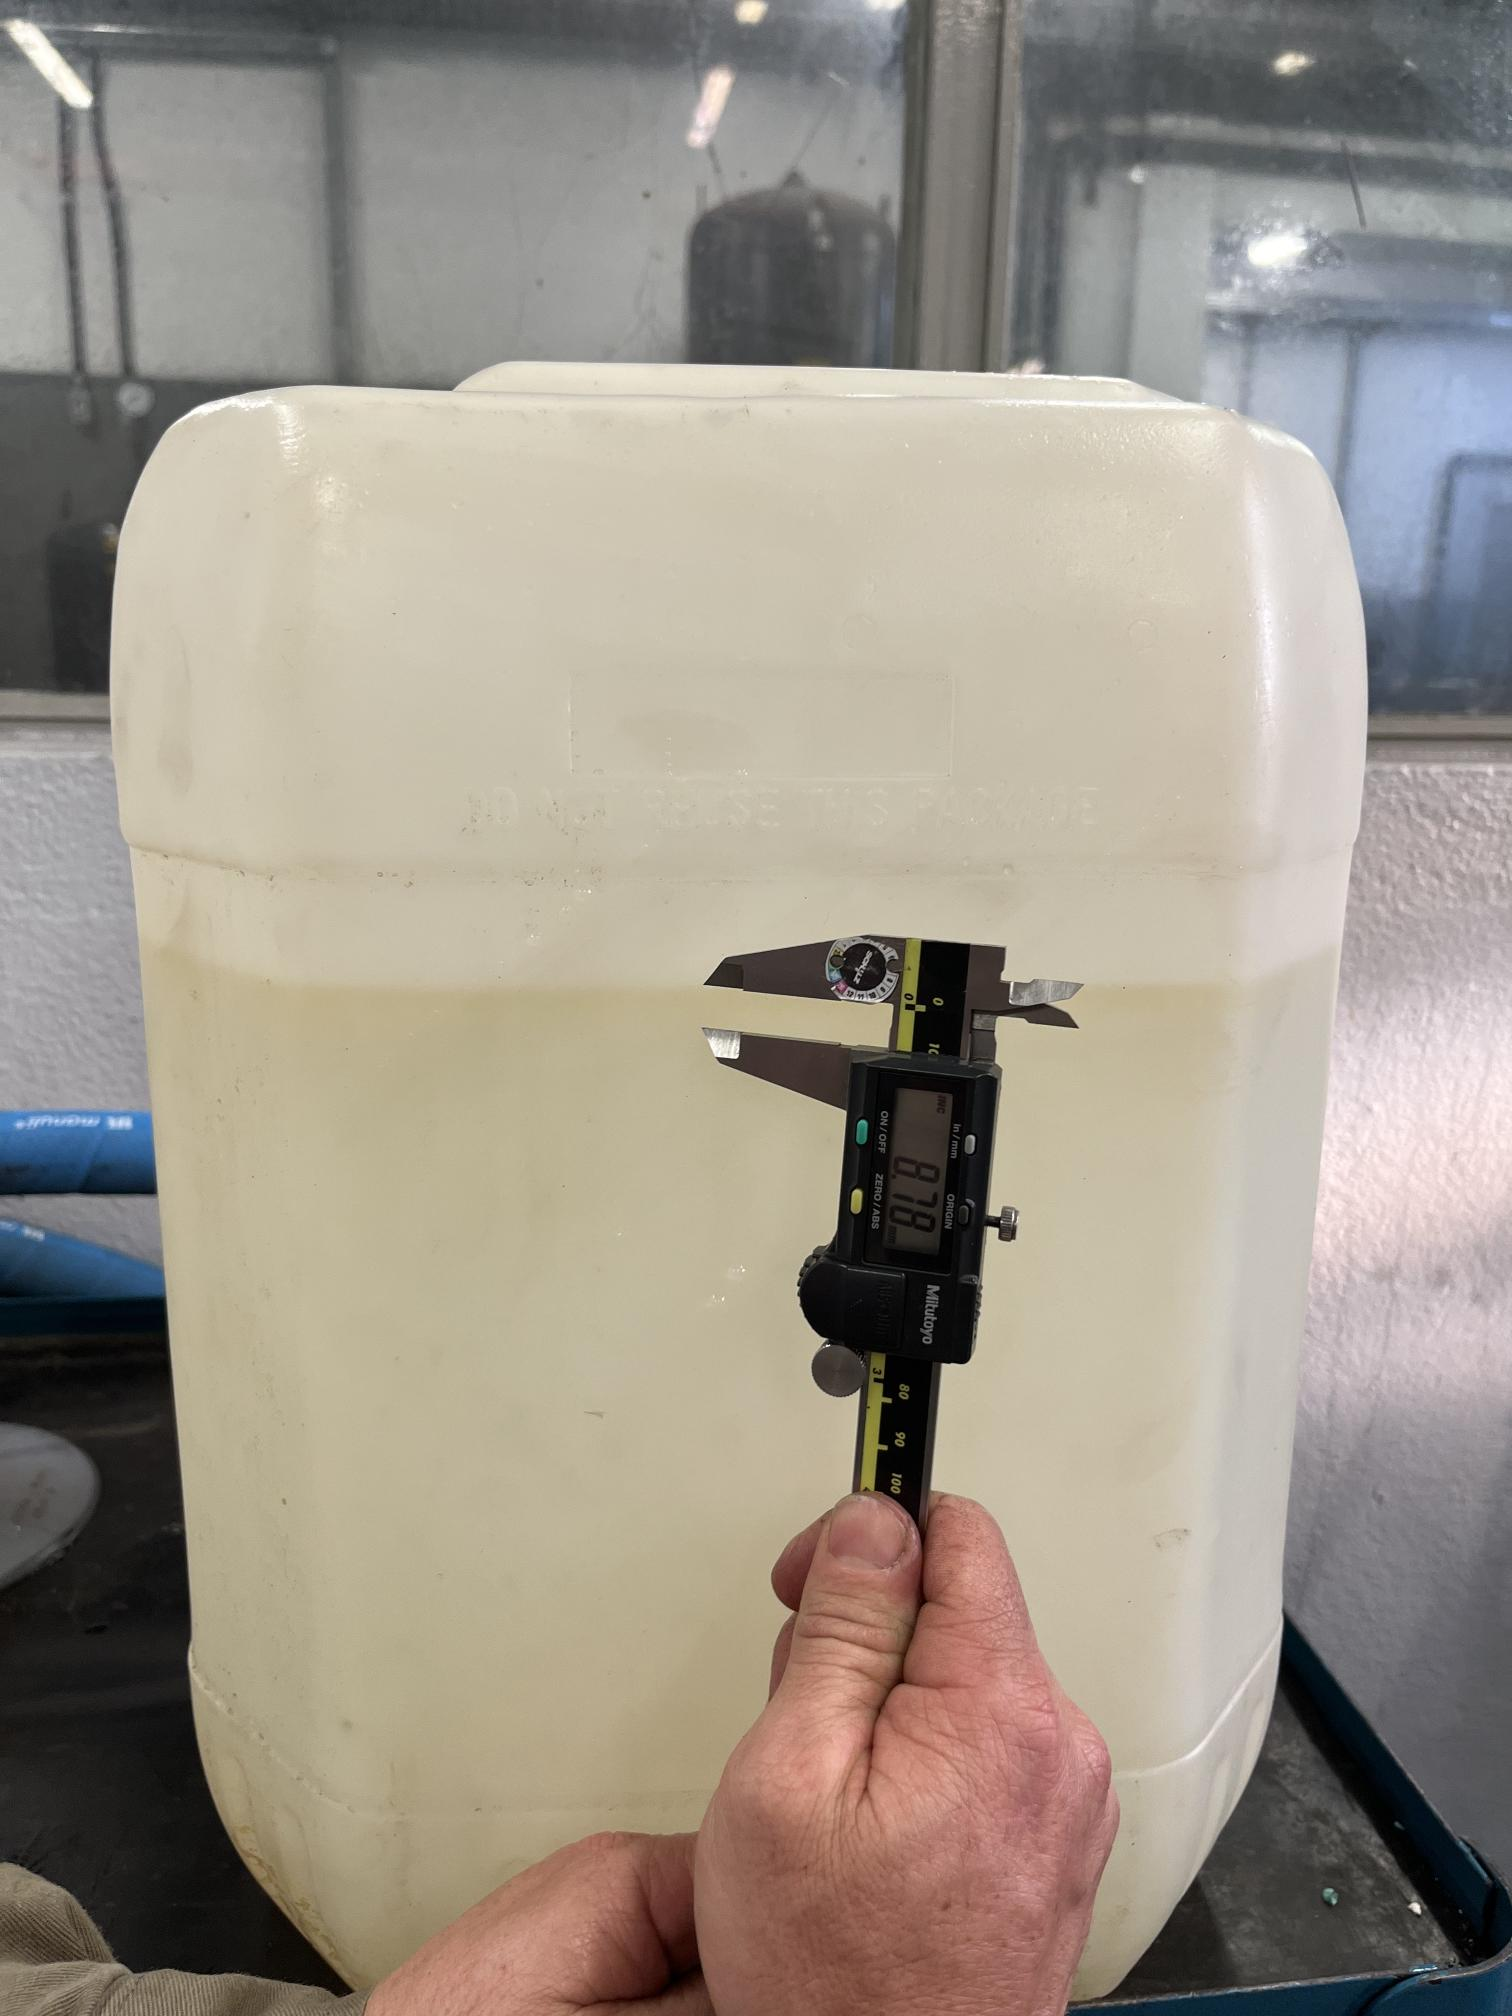Galao: (125, 290, 1425, 1975)
